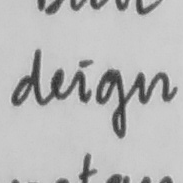d: (9, 46, 43, 110)
e: (47, 64, 68, 102)
g: (94, 65, 128, 141)
i: (71, 56, 92, 104)
n: (134, 67, 174, 106)
